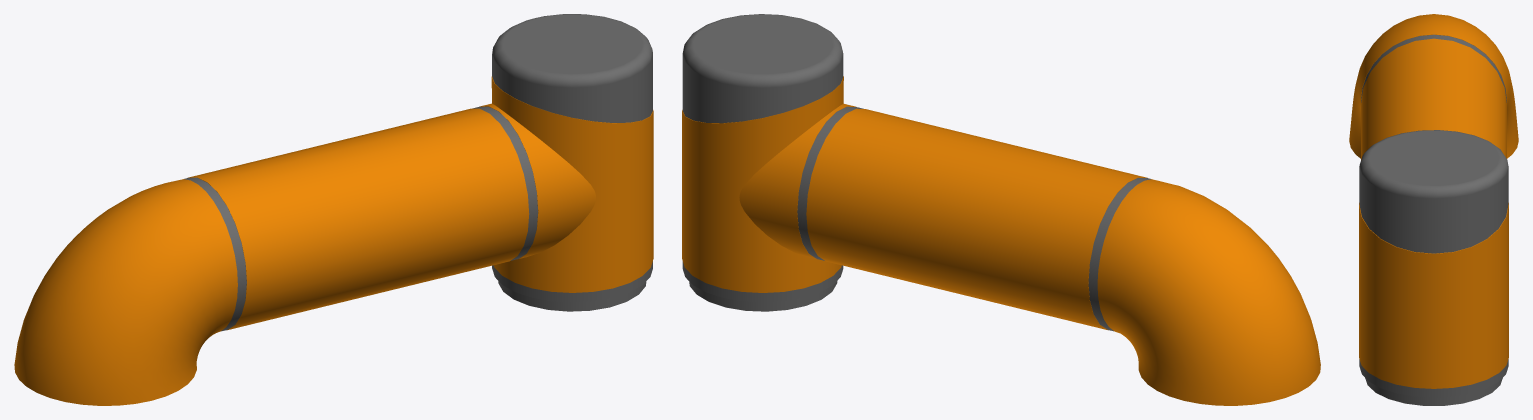
3 views of the same model, side by side, from view 1: azimuth 30°, elevation 25°; view 2: azimuth 150°, elevation 25°; view 3: azimuth 270°, elevation 25° (orthographic). The views are drawn at different scales.
Parts seen in each view (by area): view 1: FBXASC195FBXASC149FBXASC195FBXASC179FBXASC195FBXASC129FBXASC; view 2: FBXASC195FBXASC149FBXASC195FBXASC179FBXASC195FBXASC129FBXASC; view 3: FBXASC195FBXASC149FBXASC195FBXASC179FBXASC195FBXASC129FBXASC.
Part boxes in pixels (left/top/right/bottom): FBXASC195FBXASC149FBXASC195FBXASC179FBXASC195FBXASC129FBXASC: left=14, top=14, right=653, bottom=405; FBXASC195FBXASC149FBXASC195FBXASC179FBXASC195FBXASC129FBXASC: left=682, top=14, right=1320, bottom=405; FBXASC195FBXASC149FBXASC195FBXASC179FBXASC195FBXASC129FBXASC: left=1349, top=14, right=1518, bottom=405.
Bounding box in the file's own units: 0.3385 × 0.087 × 0.1238.
